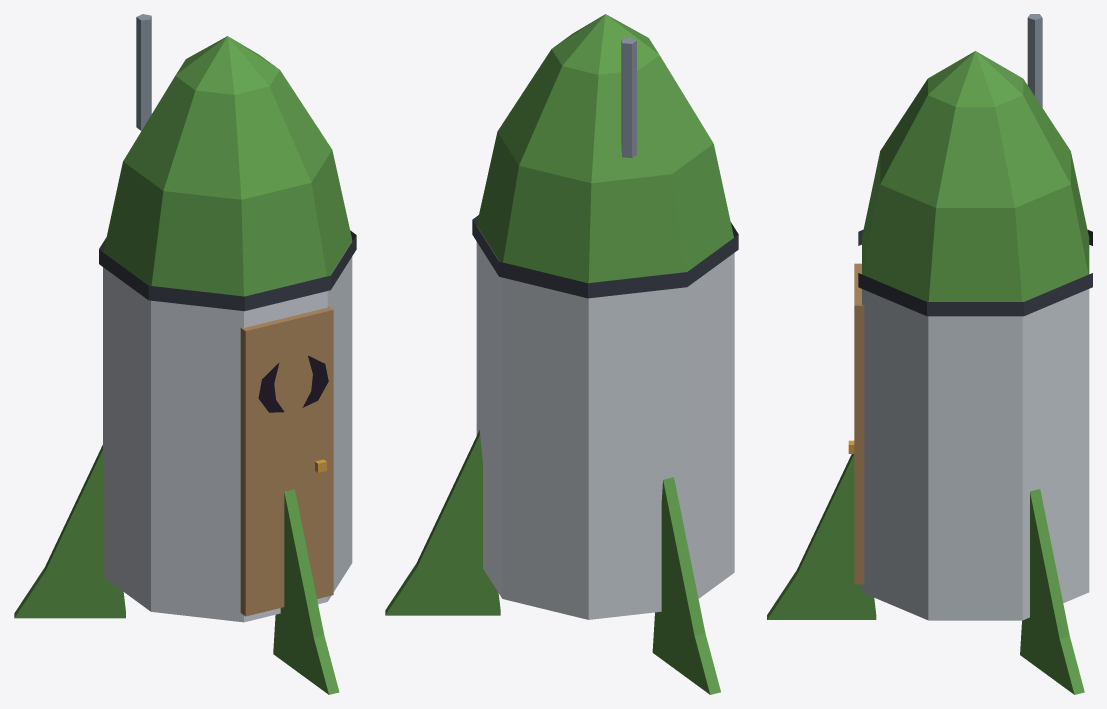
The model's file is Prop_Outhouse_Rocket.fbx.
The picture shows the model from 3 angles, left to right: view 1: azimuth 30°, elevation 25°; view 2: azimuth 150°, elevation 25°; view 3: azimuth 270°, elevation 25°; orthographic projection. The views are drawn at different scales.
Visible parts, largest first — view 1: Prop_Outhouse_Rocket_Body, Prop_Outhouse_Rocket_Door; view 2: Prop_Outhouse_Rocket_Body; view 3: Prop_Outhouse_Rocket_Body, Prop_Outhouse_Rocket_Door.
Part boxes in pixels (bbox=[...]): Prop_Outhouse_Rocket_Body: bbox=[14, 14, 356, 694]; Prop_Outhouse_Rocket_Door: bbox=[240, 306, 333, 616]; Prop_Outhouse_Rocket_Body: bbox=[385, 14, 738, 694]; Prop_Outhouse_Rocket_Body: bbox=[767, 14, 1092, 694]; Prop_Outhouse_Rocket_Door: bbox=[848, 263, 864, 584].
Size of the model in its own units: 1.85 by 3.2 by 1.64.
